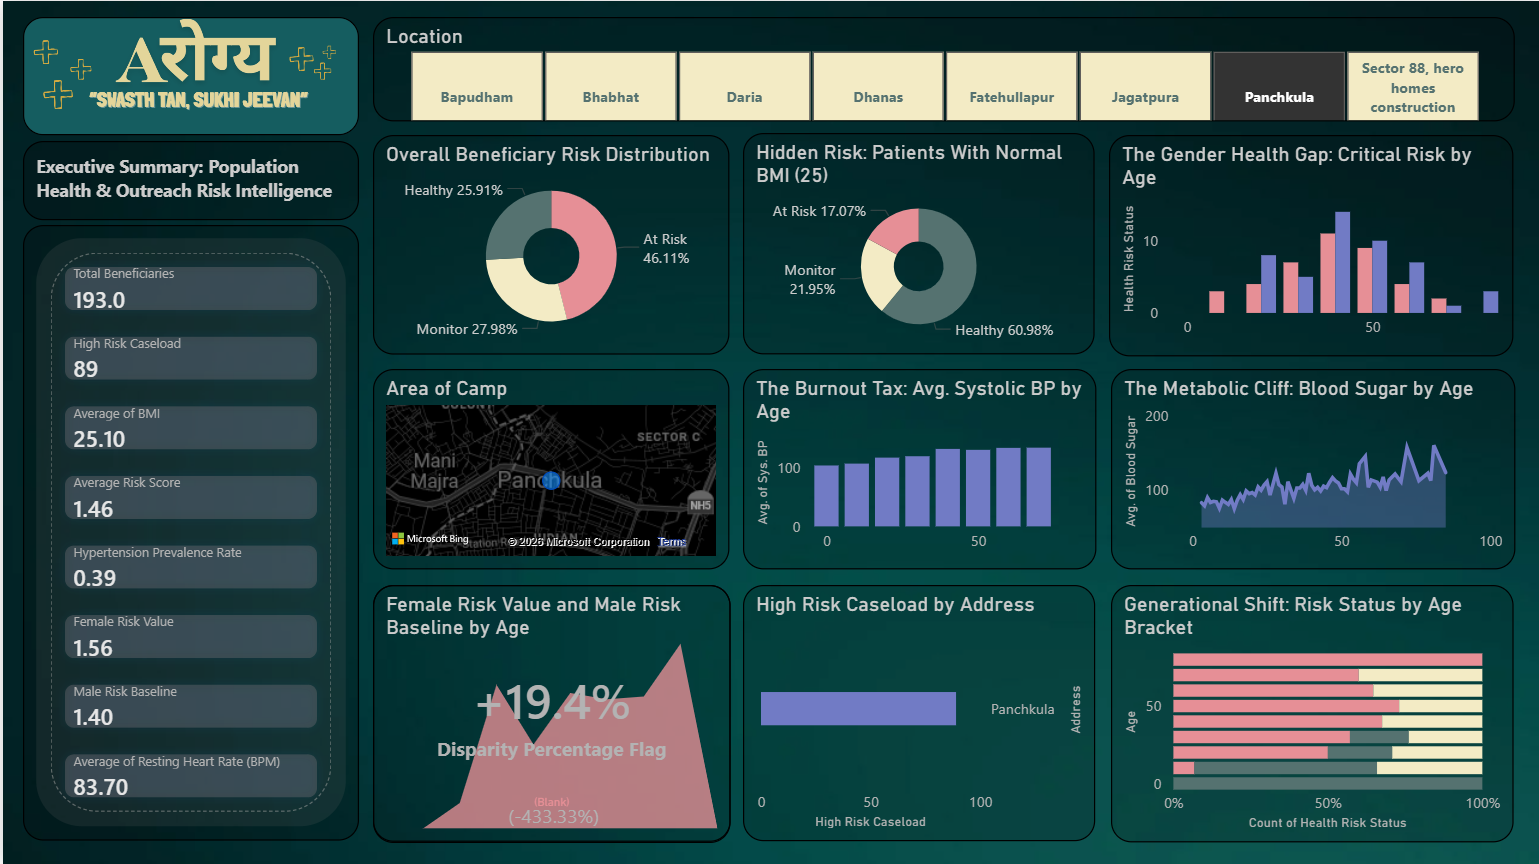

The dashboard page shown, as its layout file describes it:
{"tool":"powerbi","page":{"name":"Page 1","canvas":[1280,720],"ordinal":0},"visuals":[{"type":"donutChart","title":"Overall Beneficiary Risk Distribution","fields":{"Category":["Sheet1.Health Risk Status"],"Y":["CountNonNull(Sheet1.Health Risk Status)"]},"box":[308.6,111.4,297.1,182.9],"z":0},{"type":"hundredPercentStackedBarChart","title":"Generational Shift: Risk Status by Age Bracket","fields":{"Category":["Sheet1.Age (bins)"],"Y":["CountNonNull(Sheet1.Health Risk Status)"],"Series":["Sheet1.Health Risk Status"]},"box":[922.7,486.4,335.5,214.5],"z":1000},{"type":"lineChart","title":"The Metabolic Cliff: Blood Sugar by Age","fields":{"Category":["Sheet1.Age"],"Y":["Avg(Sheet1.Blood Sugar)"]},"box":[922.9,307.1,337.1,167.1],"z":2000},{"type":"clusteredColumnChart","title":"The Gender Health Gap: Critical Risk by Age","fields":{"Category":["Sheet1.Age (bins)"],"Series":["Sheet1.Gender"],"Y":["CountNonNull(Sheet1.Health Risk Status)"]},"box":[921.4,111.4,337.1,184.3],"z":3000},{"type":"slicer","title":"Location","fields":{"Values":["Sheet1.Address"]},"box":[308.6,12.9,951.4,87],"z":4000},{"type":"map","title":"Area of Camp","fields":{"Y":["Sheet1 (4).Latitude"],"X":["Sheet1 (4).Longitute"],"Size":["CountNonNull(Sheet1.Health Risk Status)"]},"box":[308.6,307.1,297.1,167.1],"z":5000},{"type":"donutChart","title":"Hidden Risk: Patients With Normal BMI (25)","fields":{"Category":["Sheet1.Health Risk Status"],"Y":["CountNonNull(Sheet1.Health Risk Status)"]},"box":[616.7,110,292.9,184.3],"z":6000},{"type":"clusteredColumnChart","title":"The Burnout Tax: Avg. Systolic BP by Age","fields":{"Category":["Sheet1.Age (bins)"],"Y":["Avg(Sheet1.Systolic BP)"]},"box":[617.1,307.1,294.3,167.1],"z":7000},{"type":"cardVisual","fields":{"Data":["_Calculated Measures.'Total_Beneficiaries'","_Calculated Measures.High_Risk_Caseload","Avg(Sheet1 (4).BMI)","_Calculated Measures.Avg_Risk_Score","_Calculated Measures.Hypertension_Prevalence_Rate","_Calculated Measures.Female_Risk_Value","_Calculated Measures.Male_Risk_Baseline","Avg(Sheet1 (4).Resting Heart Rate (BPM))"]},"box":[17.1,187.1,280,512.9],"z":8000},{"type":"image","box":[16.7,13.3,280,98.3],"z":9000},{"type":"kpi","title":"Female Risk Value and Male Risk Baseline by Age","fields":{"Goal":["_Calculated Measures.Male Risk Baseline"],"Indicator":["_Calculated Measures.Female Risk Value"],"TrendLine":["Sheet1.Age (bins)"]},"box":[308,486,298,214],"z":10000},{"type":"clusteredBarChart","fields":{"Category":["Sheet1.Address"],"Y":["_Calculated Measures.High Risk Caseload"]},"box":[617.3,486.4,293.6,213.6],"z":11000},{"type":"textbox","box":[16.7,116.7,280,66],"z":12000},{"type":"cardVisual","fields":{"Data":["_Calculated Measures.Disparity Percentage Flag"]},"box":[308,486,298,215],"z":13000}]}

Visuals, with their boxes in screenshot pixels (x1, y1, x2, y2), scaled from the page's 1280x720 canvas onto the 1539x864 screenshot:
"Overall Beneficiary Risk Distribution" donutChart: rect(371, 134, 728, 353)
"Generational Shift: Risk Status by Age Bracket" hundredPercentStackedBarChart: rect(1109, 584, 1513, 841)
"The Metabolic Cliff: Blood Sugar by Age" lineChart: rect(1110, 369, 1515, 569)
"The Gender Health Gap: Critical Risk by Age" clusteredColumnChart: rect(1108, 134, 1513, 355)
"Location" slicer: rect(371, 15, 1515, 120)
"Area of Camp" map: rect(371, 369, 728, 569)
"Hidden Risk: Patients With Normal BMI (25)" donutChart: rect(741, 132, 1094, 353)
"The Burnout Tax: Avg. Systolic BP by Age" clusteredColumnChart: rect(742, 369, 1096, 569)
cardVisual - _Calculated Measures.'Total_Beneficiaries' x _Calculated Measures.High_Risk_Caseload: rect(21, 225, 357, 840)
image: rect(20, 16, 357, 134)
"Female Risk Value and Male Risk Baseline by Age" kpi: rect(370, 583, 729, 840)
clusteredBarChart - Sheet1.Address x _Calculated Measures.High Risk Caseload: rect(742, 584, 1095, 840)
textbox: rect(20, 140, 357, 219)
cardVisual - _Calculated Measures.Disparity Percentage Flag: rect(370, 583, 729, 841)
